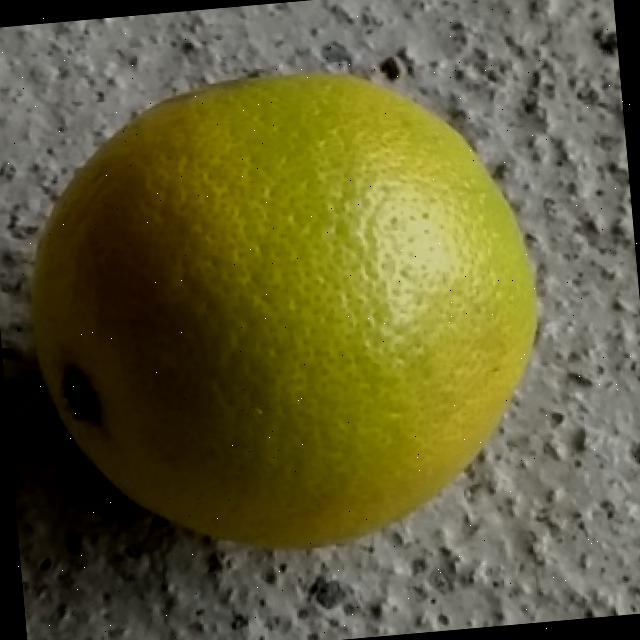Lemon: (8, 47, 560, 572)
